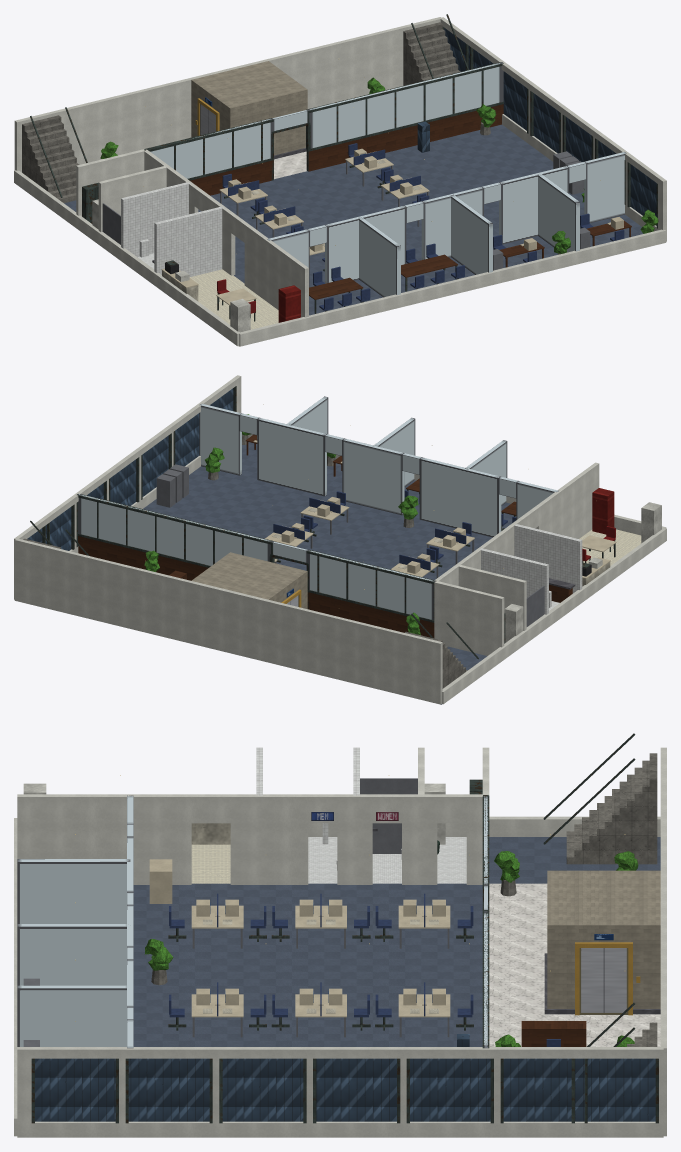
Rendered from SchruteFloor5.fbx.
The picture shows the model from 3 angles, top to bottom: view 1: azimuth 30°, elevation 25°; view 2: azimuth 150°, elevation 25°; view 3: azimuth 270°, elevation 25°; orthographic projection. The views are drawn at different scales.
Visible parts, largest first — view 1: Off_Entrance, Off_Floor, Off_WallN, Off_GlassFront, Off_WallE, Off_WallS, Off_ElevatorShaft, Off_WallRooms, Off_WallMens, Off_StairsW, Off_WallW, Off_WallLadies (+17 smaller); view 2: Off_WallN, Off_GlassFront, Off_Entrance, Off_Floor, Off_WallE, Off_WallRooms, Off_WallUtilTop, Off_WallW, Off_ElevatorShaft, Off_WallMens, Off_WallLadies, Off_WallUtil (+12 smaller); view 3: Off_WallE, Off_Floor, Off_WallRooms, Off_ElevatorShaft, Off_FloorLift, Off_GlassSplit-3, Off_StairsW, Off_GlassSplit2, Off_GlassSplit6, Elev_DoorE, Off_FloorRestrooms, Off_FloorLeft (+20 smaller).
Boxes of the visible parts, bbox=[...] form: Off_Entrance: bbox=[144, 62, 503, 195]; Off_Floor: bbox=[198, 124, 584, 287]; Off_WallN: bbox=[14, 17, 441, 172]; Off_GlassFront: bbox=[267, 152, 626, 287]; Off_WallE: bbox=[440, 17, 666, 241]; Off_WallS: bbox=[239, 229, 666, 346]; Off_ElevatorShaft: bbox=[191, 61, 307, 155]; Off_WallRooms: bbox=[144, 149, 308, 317]; Off_WallMens: bbox=[154, 206, 223, 276]; Off_StairsW: bbox=[22, 107, 87, 202]; Off_WallW: bbox=[14, 170, 240, 346]; Off_WallLadies: bbox=[121, 182, 190, 257]; Off_WallN: bbox=[14, 539, 442, 704]; Off_GlassFront: bbox=[199, 403, 558, 537]; Off_Entrance: bbox=[77, 494, 436, 638]; Off_Floor: bbox=[143, 466, 492, 580]; Off_WallE: bbox=[14, 375, 241, 599]; Off_WallRooms: bbox=[434, 462, 599, 585]; Off_WallUtilTop: bbox=[434, 581, 504, 655]; Off_WallW: bbox=[441, 527, 666, 704]; Off_ElevatorShaft: bbox=[191, 552, 307, 608]; Off_WallMens: bbox=[514, 524, 582, 593]; Off_WallLadies: bbox=[479, 548, 548, 614]; Off_WallUtil: bbox=[458, 565, 526, 630]; Off_WallE: bbox=[17, 1047, 663, 1137]; Off_Floor: bbox=[133, 883, 482, 1046]; Off_WallRooms: bbox=[17, 794, 485, 884]; Off_ElevatorShaft: bbox=[547, 870, 660, 1008]; Off_FloorLift: bbox=[489, 883, 660, 1046]; Off_GlassSplit-3: bbox=[17, 859, 130, 923]; Off_StairsW: bbox=[543, 733, 657, 864]; Off_GlassSplit2: bbox=[17, 924, 126, 985]; Off_GlassSplit6: bbox=[17, 985, 126, 1046]; Elev_DoorE: bbox=[575, 934, 640, 1015]; Off_FloorRestrooms: bbox=[308, 837, 466, 883]; Off_FloorLeft: bbox=[489, 837, 660, 883].
Bounding box in the file's own units: 22.22 × 3.64 × 20.2.
